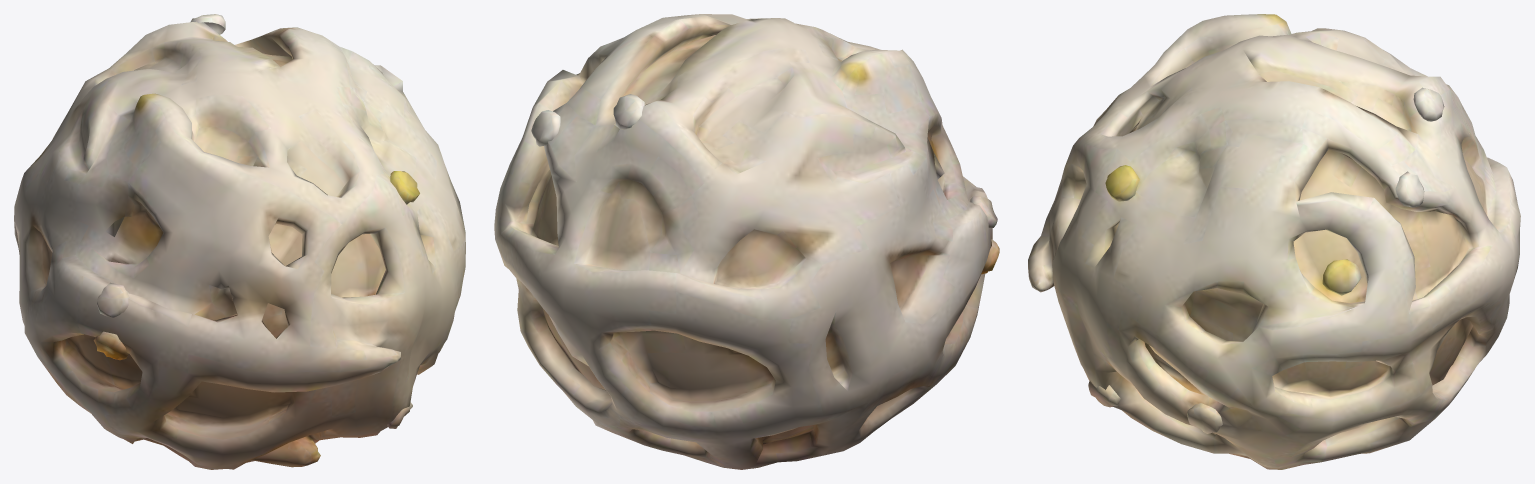
The model's file is mozzarella.glb.
3 views of the same model, side by side, from view 1: azimuth 30°, elevation 25°; view 2: azimuth 150°, elevation 25°; view 3: azimuth 270°, elevation 25° (orthographic). The views are drawn at different scales.
Visible parts, largest first — view 1: Mozzarella; view 2: Mozzarella; view 3: Mozzarella.
Part boxes in pixels (left/top/right/bottom): Mozzarella: left=14, top=14, right=465, bottom=469; Mozzarella: left=494, top=14, right=999, bottom=469; Mozzarella: left=1028, top=14, right=1520, bottom=469.
Size of the model in its own units: 1.35 by 1.27 by 1.43.
1 material, 1 textured.
